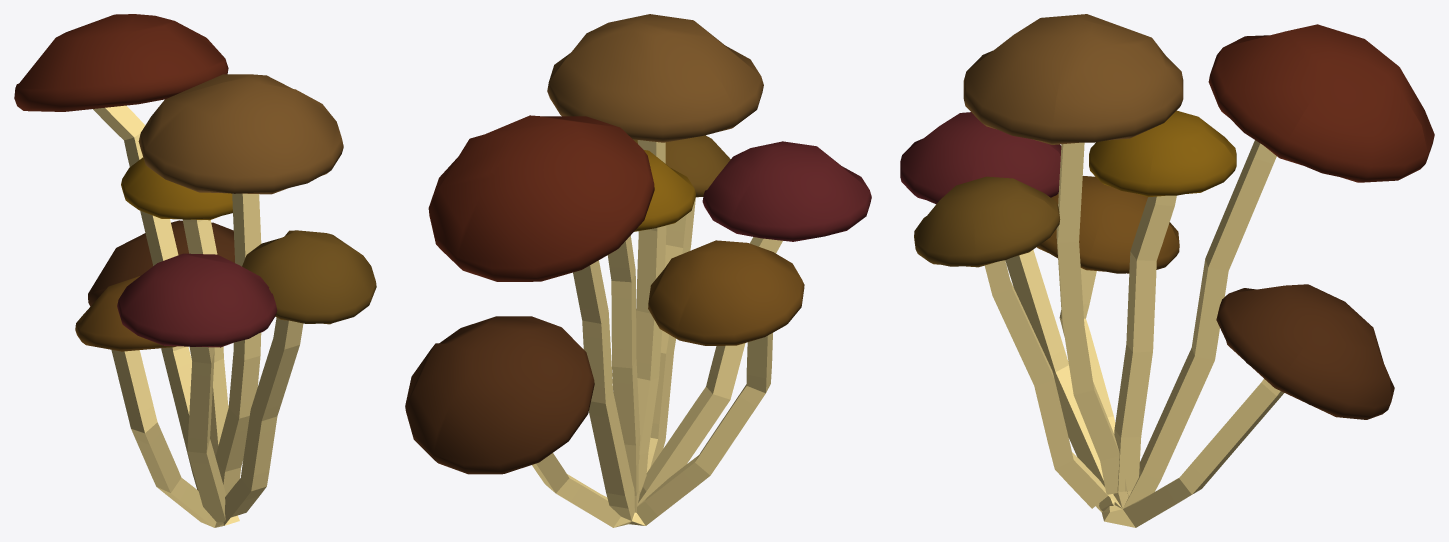
Rendered from shroom2.glb.
The picture shows the model from 3 angles, left to right: view 1: azimuth 30°, elevation 25°; view 2: azimuth 150°, elevation 25°; view 3: azimuth 270°, elevation 25°; orthographic projection. The views are drawn at different scales.
Parts seen in each view (by area): view 1: Bulb, Root; view 2: Bulb, Root; view 3: Bulb, Root.
Boxes of the visible parts, x1,y1,x2,y2 form: Bulb: [14, 14, 376, 351]; Root: [93, 105, 303, 527]; Bulb: [405, 14, 871, 474]; Root: [532, 140, 782, 527]; Bulb: [900, 14, 1434, 419]; Root: [985, 140, 1283, 527].
Bounding box in the file's own units: 0.3828 × 0.6091 × 0.5971.
